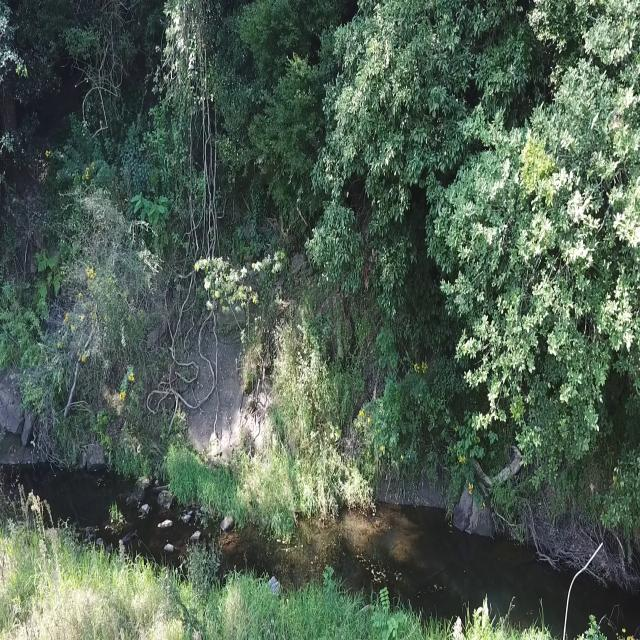Mysore-Thorn-Weed: (123, 187, 176, 260)
